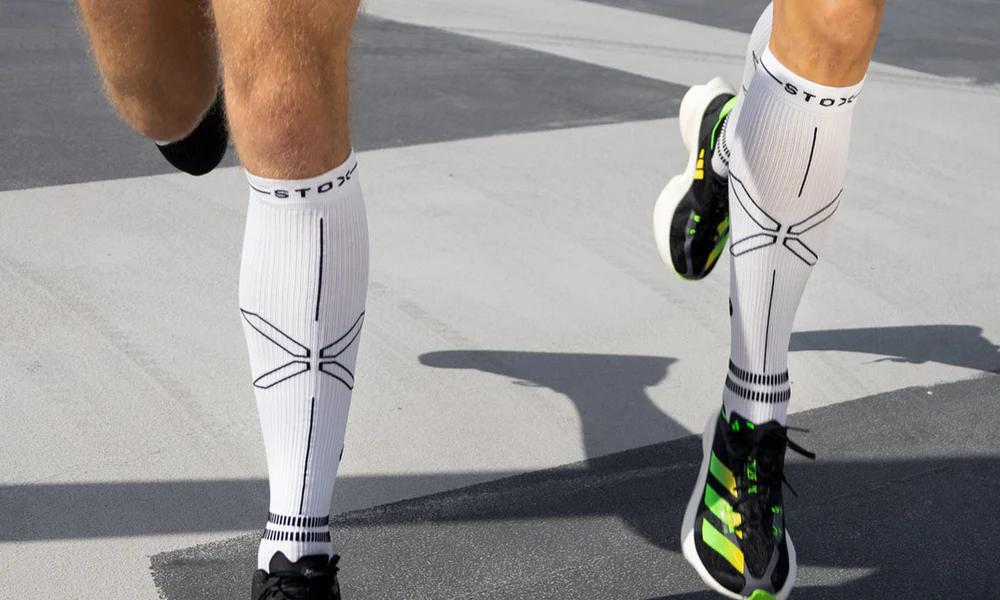adidas logo: (692, 437, 754, 576), (688, 132, 716, 190)
sock logo: (728, 64, 857, 416), (248, 164, 361, 535)
